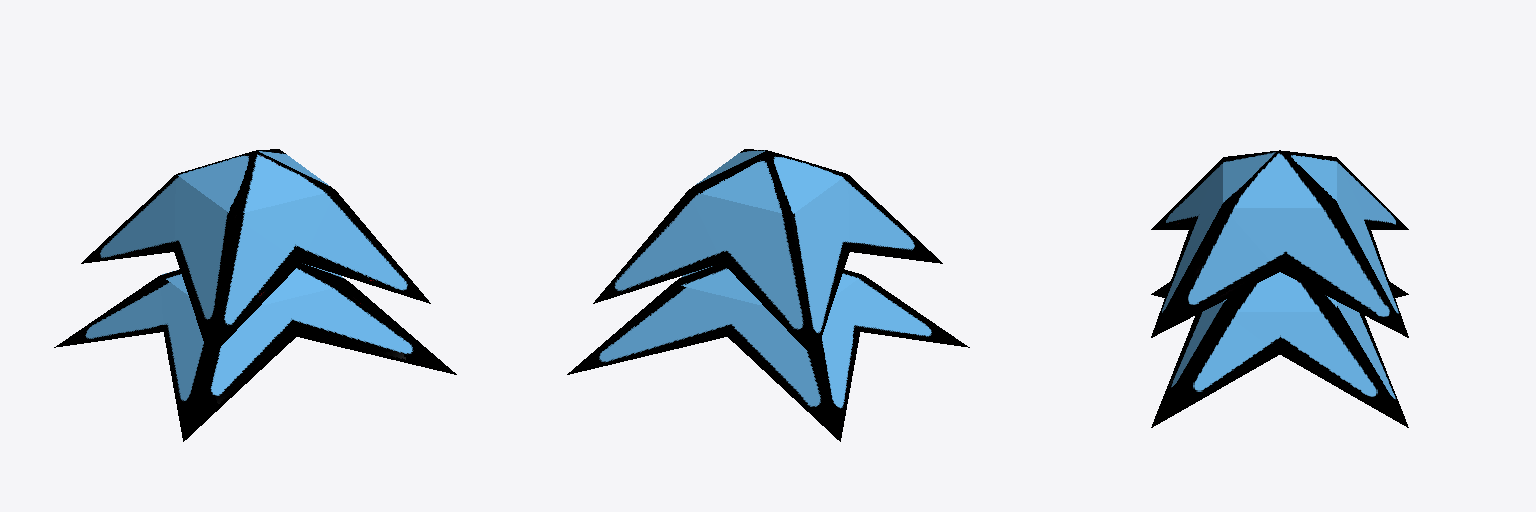
3 views of the same model, side by side, from view 1: azimuth 30°, elevation 25°; view 2: azimuth 150°, elevation 25°; view 3: azimuth 270°, elevation 25° (orthographic).
Visible parts, largest first — view 1: 立方体.002; view 2: 立方体.002; view 3: 立方体.002.
Boxes of the visible parts, <box> form: 立方体.002: <box>54,149,456,441</box>; 立方体.002: <box>567,149,969,441</box>; 立方体.002: <box>1151,150,1408,427</box>.
Size of the model in its own units: 2.31 by 1.7 by 1.89.
Materials: 1 (1 with a texture image).